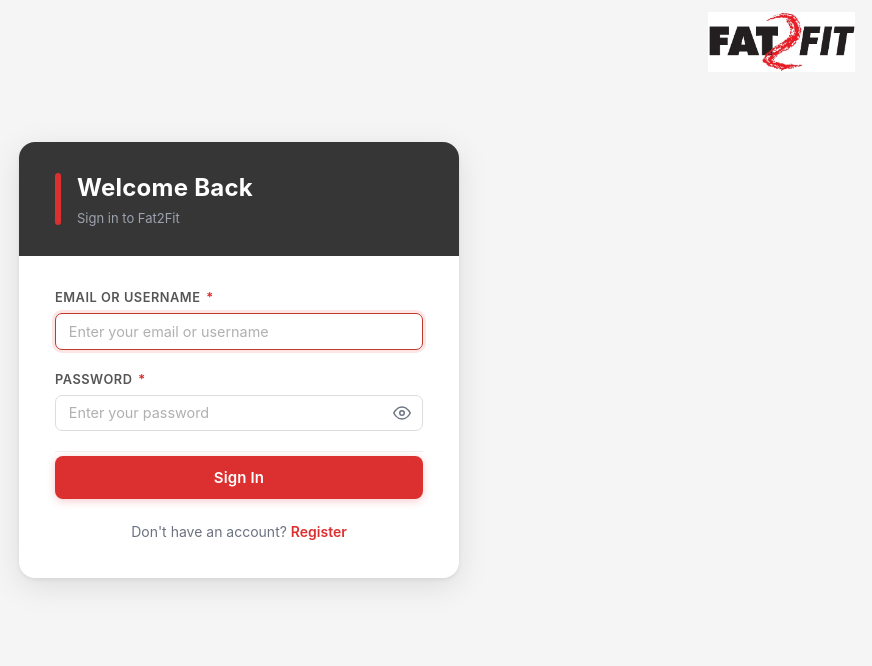
Scenario: Auth_Login › shows validation when fields are empty
The image size is (872, 666).
Click the button "Sign In" at coordinates (239, 478), box [55,456,423,499]
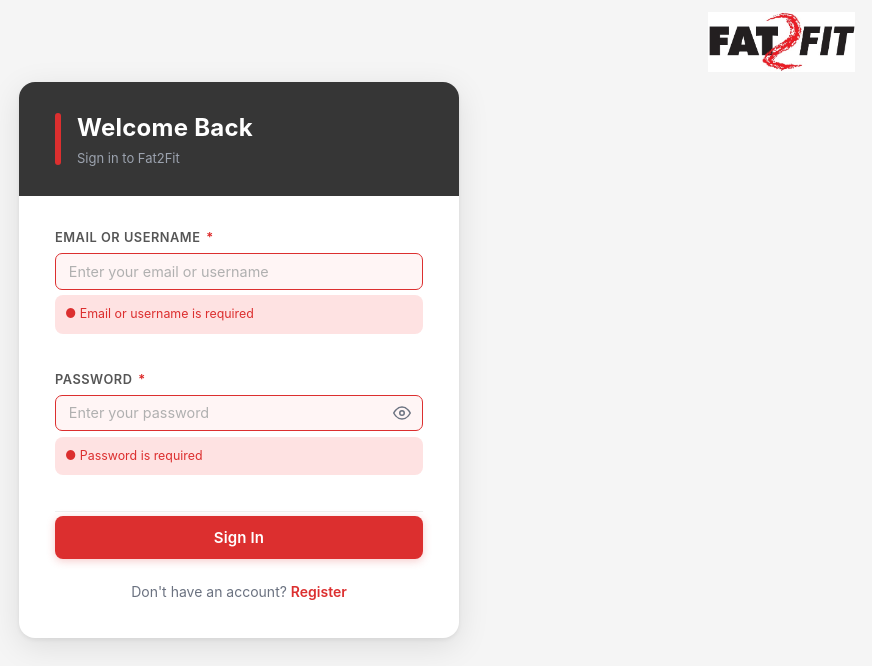
Expected: the text "Email or username is required" is shown, [80,306,254,321]
Expected: the text "Password is required" is shown, [80,448,203,463]
